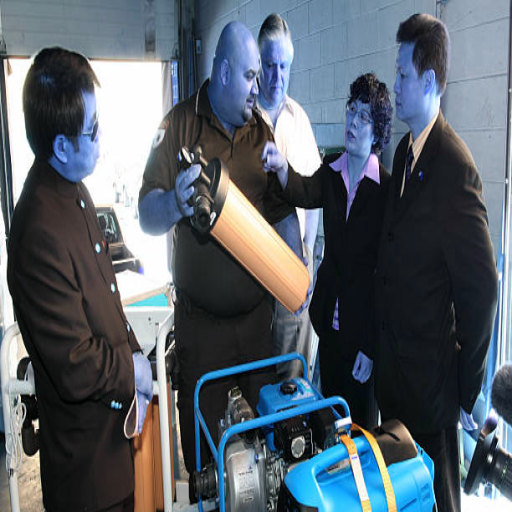portable_generator: (193, 354, 354, 512)
